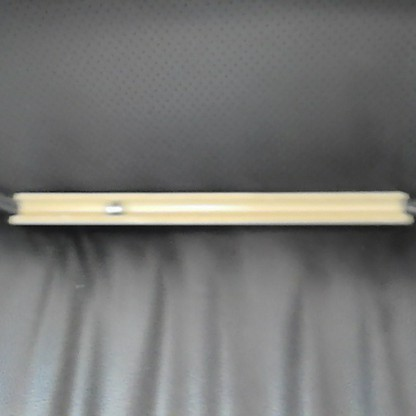ironball: (103, 195, 124, 215)
